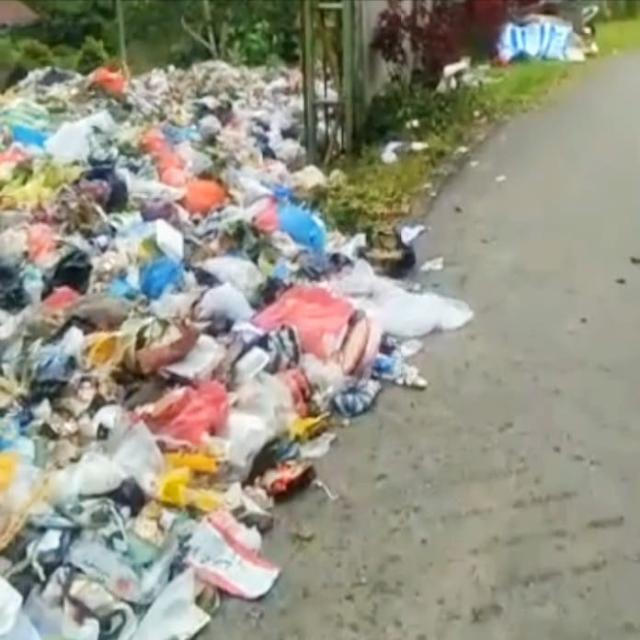trash: (0, 26, 489, 640)
